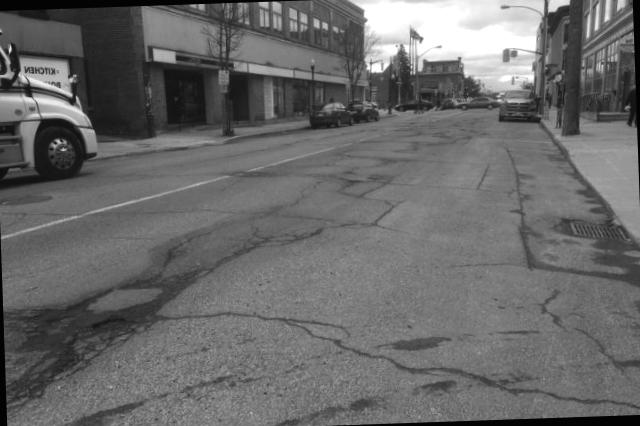Pothole: (1, 247, 215, 426)
